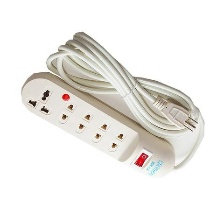three_eye_plug: (17, 67, 180, 180)
